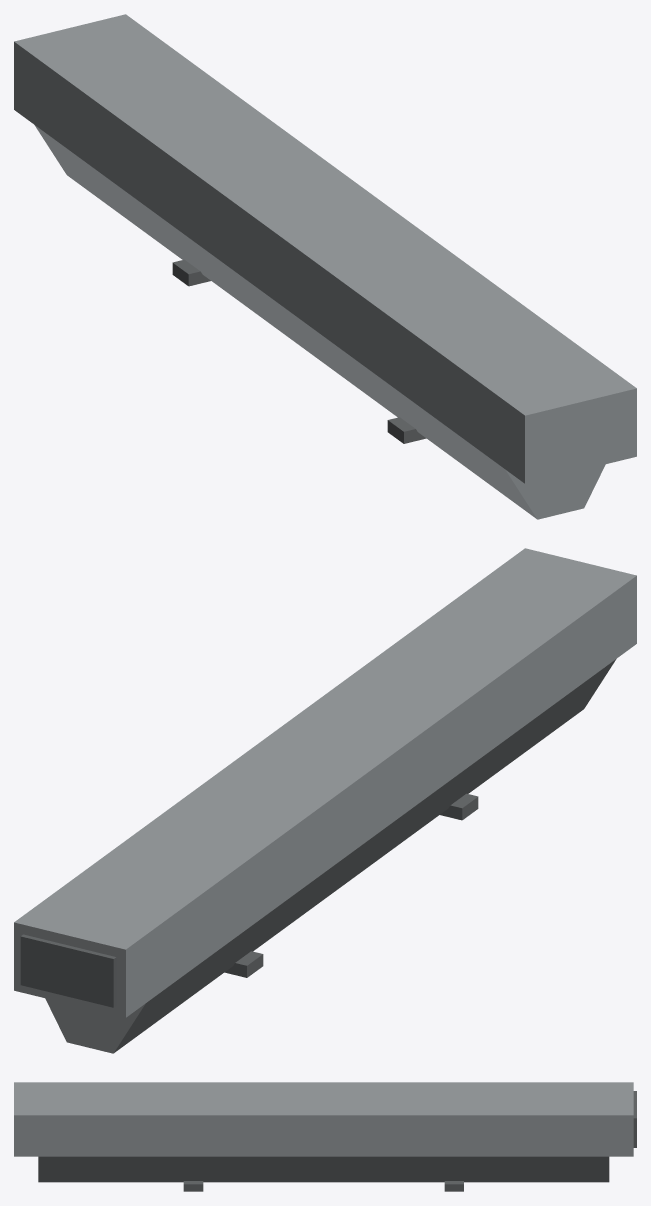
The model's file is ter9.glb.
3 views of the same model, one above another, from view 1: azimuth 30°, elevation 25°; view 2: azimuth 150°, elevation 25°; view 3: azimuth 270°, elevation 25° (orthographic). The views are drawn at different scales.
Visible parts, largest first — view 1: ter9_body; view 2: ter9_body; view 3: ter9_body.
Boxes of the visible parts, left/top/right/bottom form: ter9_body: left=14, top=14, right=636, bottom=519; ter9_body: left=14, top=548, right=636, bottom=1053; ter9_body: left=14, top=1082, right=636, bottom=1191.
Size of the model in its own units: 0.24 by 0.2775 by 1.91.
Materials: 2 (2 with a texture image).
